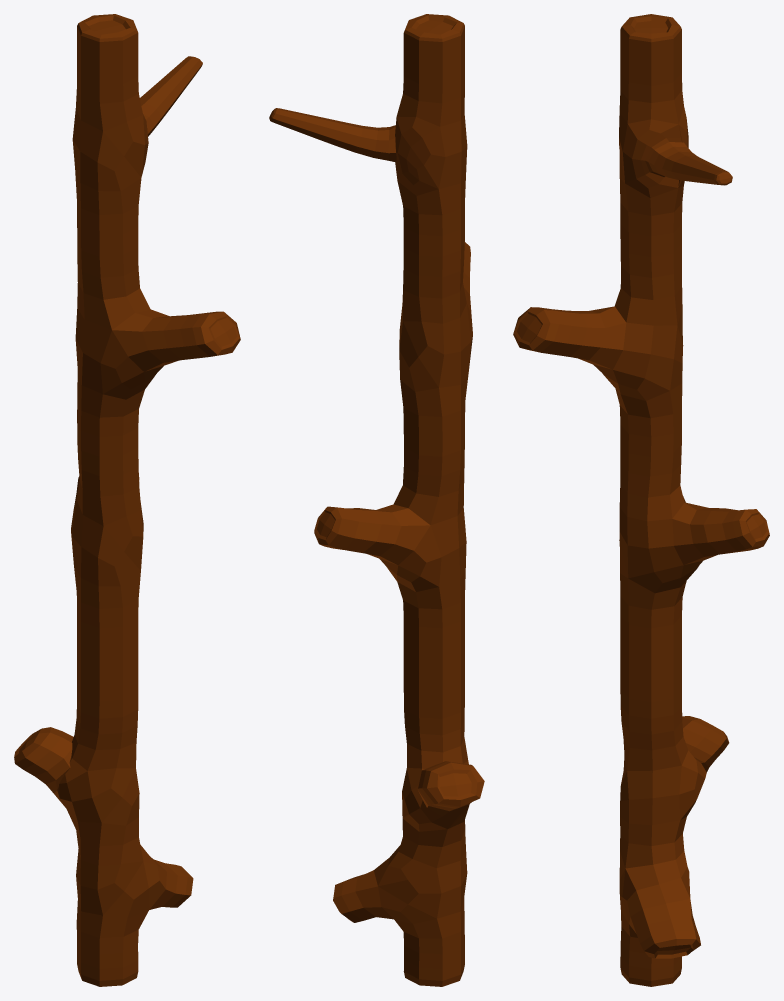
The model's file is tronc en haut.fbx.
The picture shows the model from 3 angles, left to right: view 1: azimuth 30°, elevation 25°; view 2: azimuth 150°, elevation 25°; view 3: azimuth 270°, elevation 25°; orthographic projection.
Parts seen in each view (by area): view 1: tronc.001; view 2: tronc.001; view 3: tronc.001.
Part boxes in pixels (x1,y1,x2,y2): tronc.001: [14, 14, 240, 986]; tronc.001: [269, 14, 484, 986]; tronc.001: [513, 14, 769, 986].
Bounding box in the file's own units: 433 × 1988 × 486.
